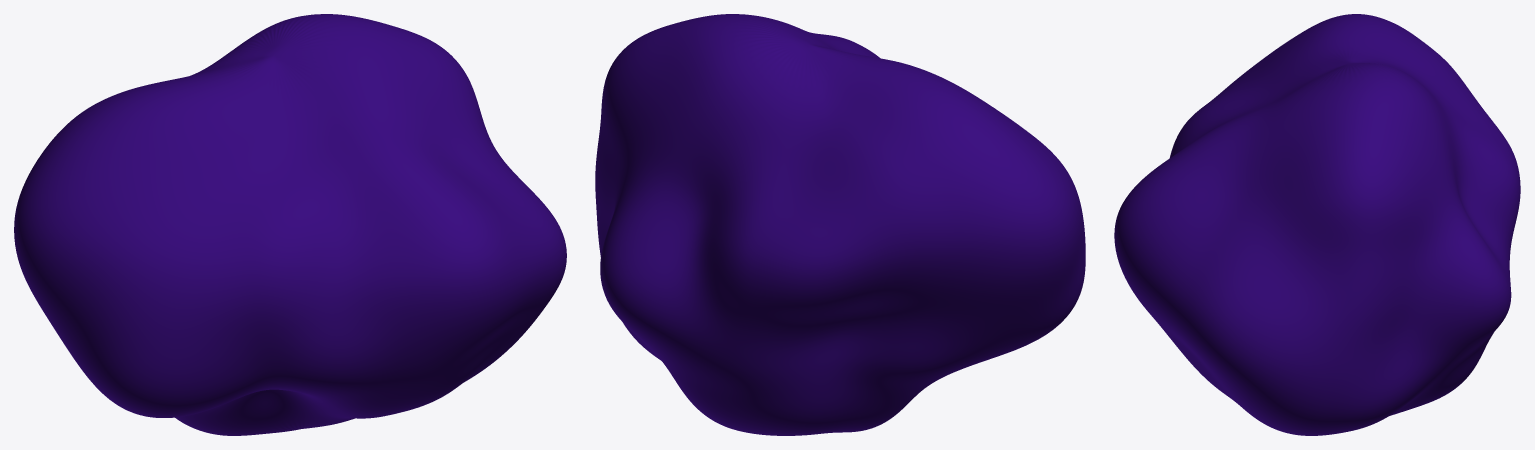
The model's file is burbu.glb.
3 views of the same model, side by side, from view 1: azimuth 30°, elevation 25°; view 2: azimuth 150°, elevation 25°; view 3: azimuth 270°, elevation 25° (orthographic). The views are drawn at different scales.
Visible parts, largest first — view 1: Sphere; view 2: Sphere; view 3: Sphere.
Part boxes in pixels (<box>): Sphere: <box>14,14,566,435</box>; Sphere: <box>595,14,1085,435</box>; Sphere: <box>1114,14,1520,435</box>.
Size of the model in its own units: 1.59 by 1.21 by 1.27.
